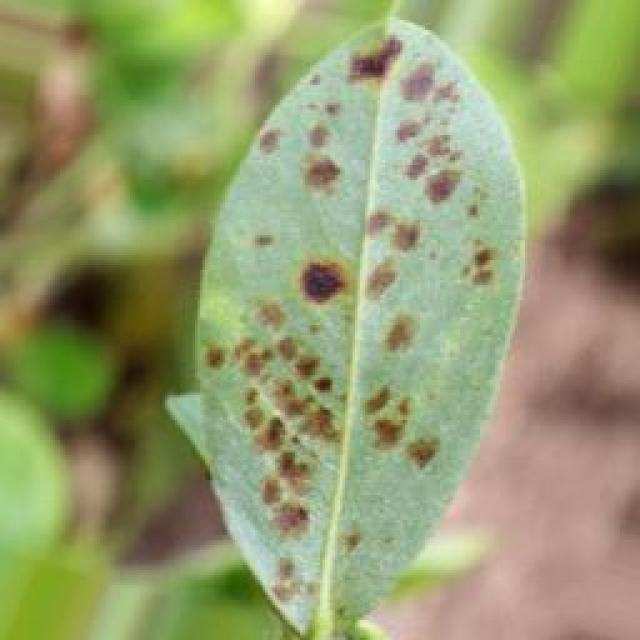Whitefly: (180, 13, 509, 627)
